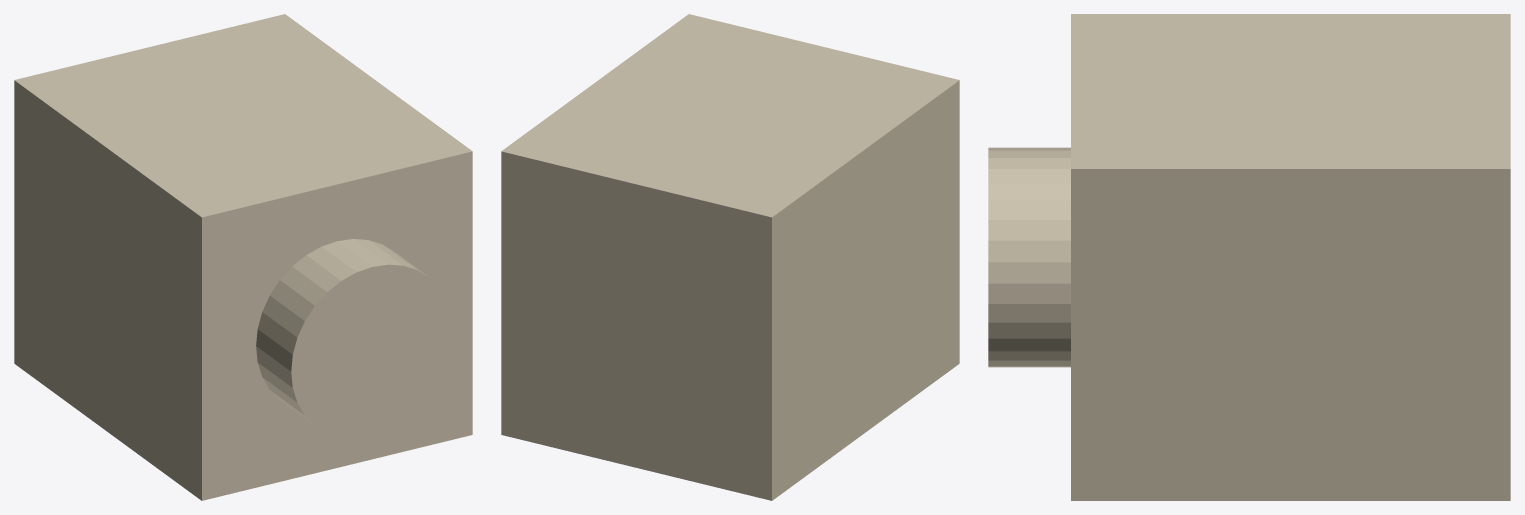
Rendered from brick_5.glb.
The picture shows the model from 3 angles, left to right: view 1: azimuth 30°, elevation 25°; view 2: azimuth 150°, elevation 25°; view 3: azimuth 270°, elevation 25°; orthographic projection. The views are drawn at different scales.
Visible parts, largest first — view 1: world; view 2: world; view 3: world.
Boxes of the visible parts, bbox=[...] form: world: bbox=[14, 14, 472, 500]; world: bbox=[501, 14, 959, 500]; world: bbox=[988, 14, 1510, 500].
Bounding box in the file's own units: 8 × 8 × 11.4.
